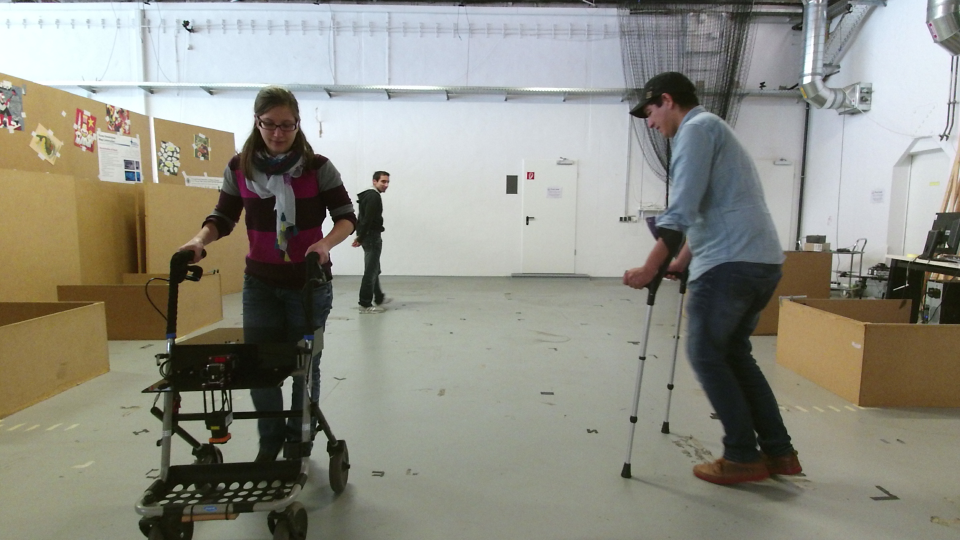crutches: (598, 61, 802, 493)
